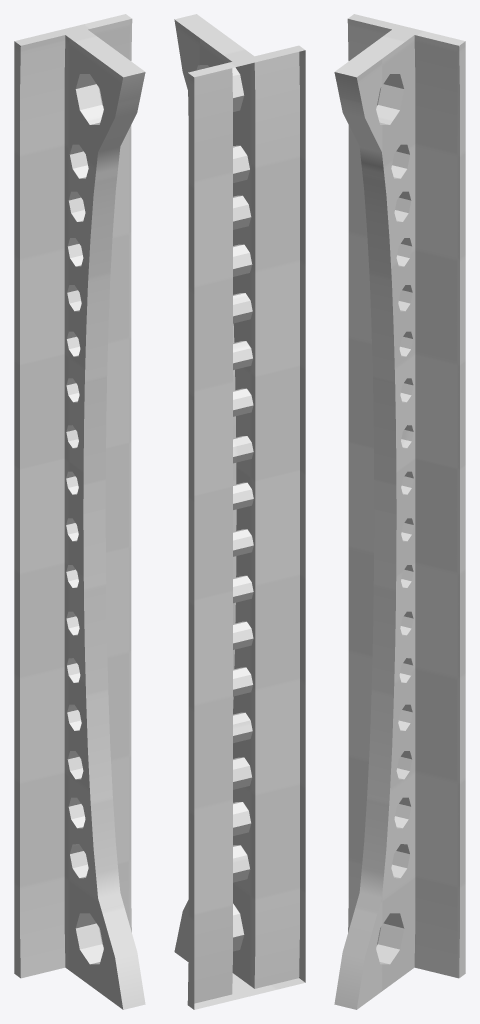
Rendered from enginehall_struss_long.fbx.
The picture shows the model from 3 angles, left to right: view 1: azimuth 30°, elevation 25°; view 2: azimuth 210°, elevation 25°; view 3: azimuth 330°, elevation 25°; orthographic projection.
Parts seen in each view (by area): view 1: enginehall_struss_long; view 2: enginehall_struss_long; view 3: enginehall_struss_long.
Part boxes in pixels (left/top/right/bottom): enginehall_struss_long: left=14, top=14, right=145, bottom=1009; enginehall_struss_long: left=174, top=14, right=305, bottom=1009; enginehall_struss_long: left=334, top=14, right=465, bottom=1009.
Size of the model in its own units: 50 by 400 by 50.
